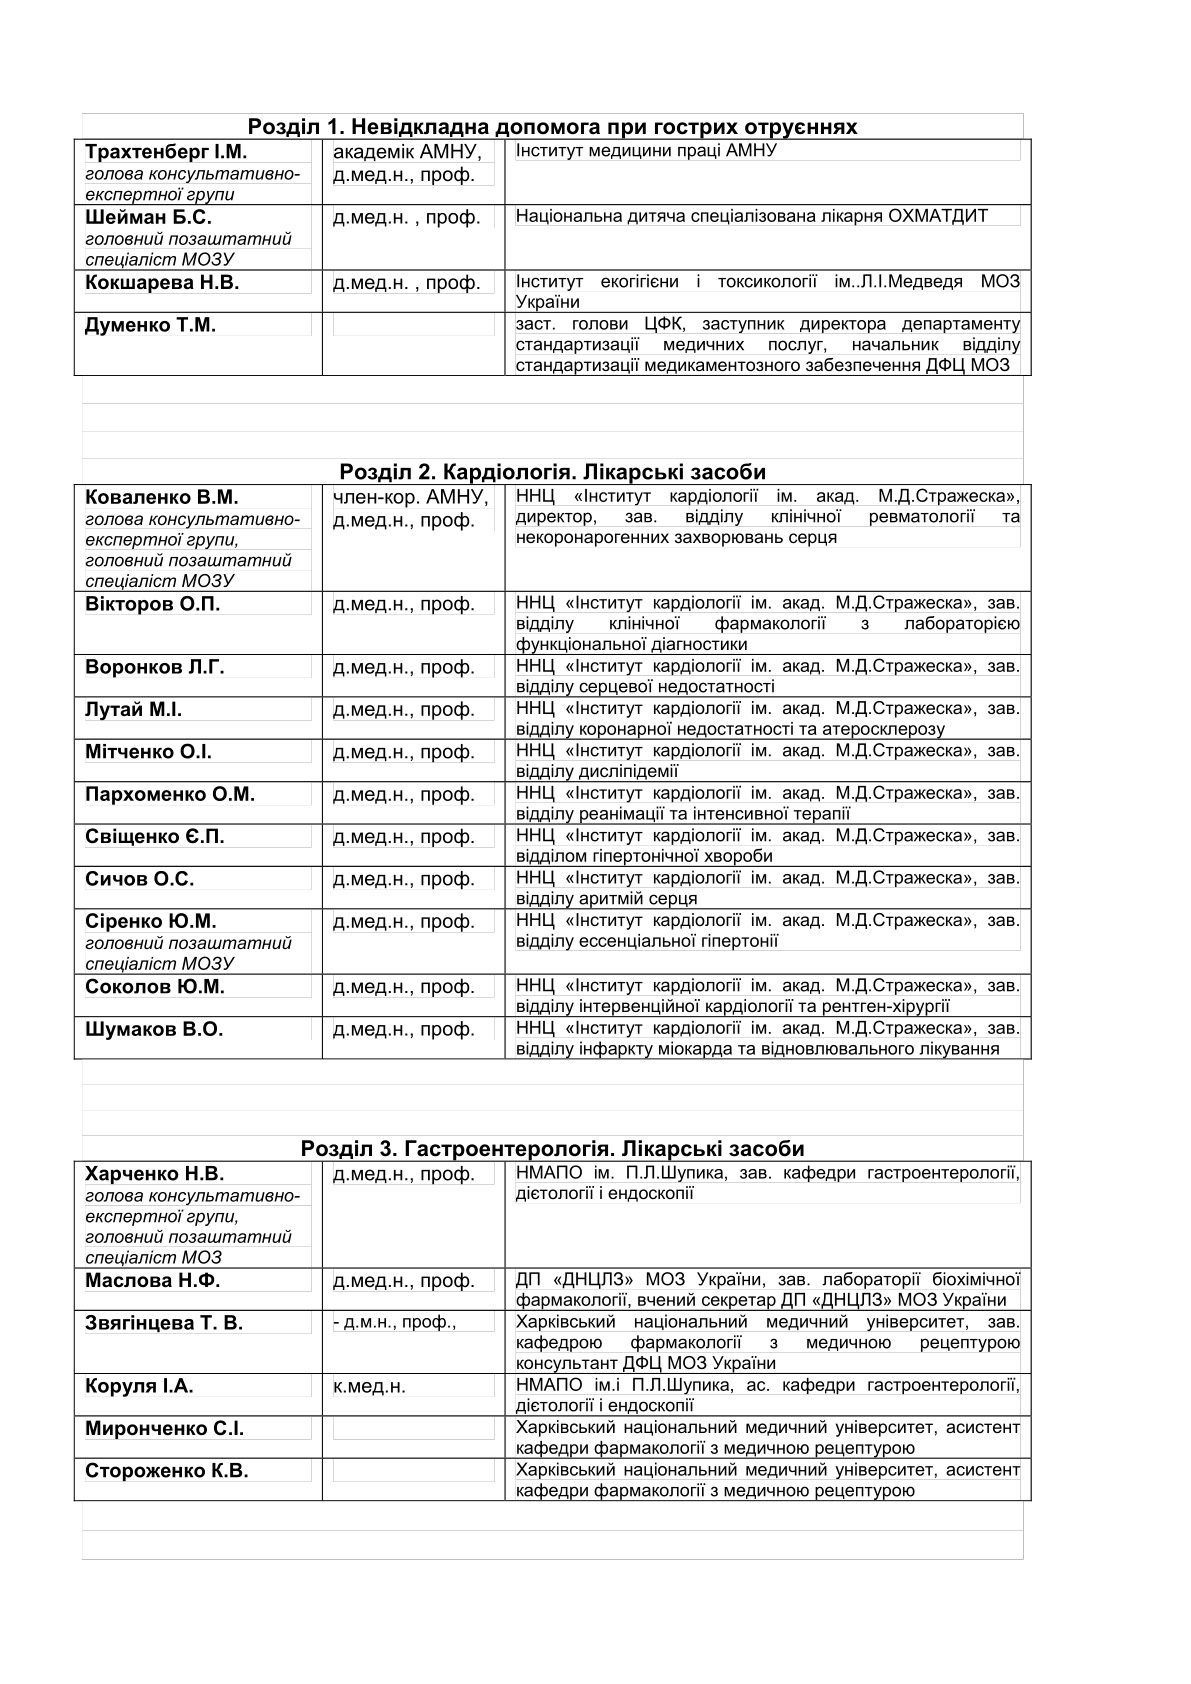full_lined: (72, 483, 1032, 1060), (72, 1160, 1032, 1502), (72, 138, 1032, 378)
